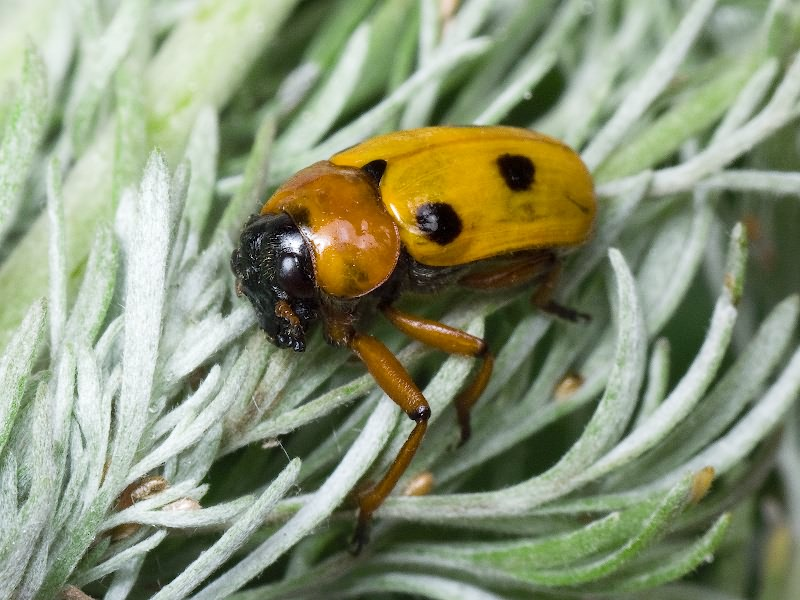Tituboea_macropus: (217, 113, 611, 569)
